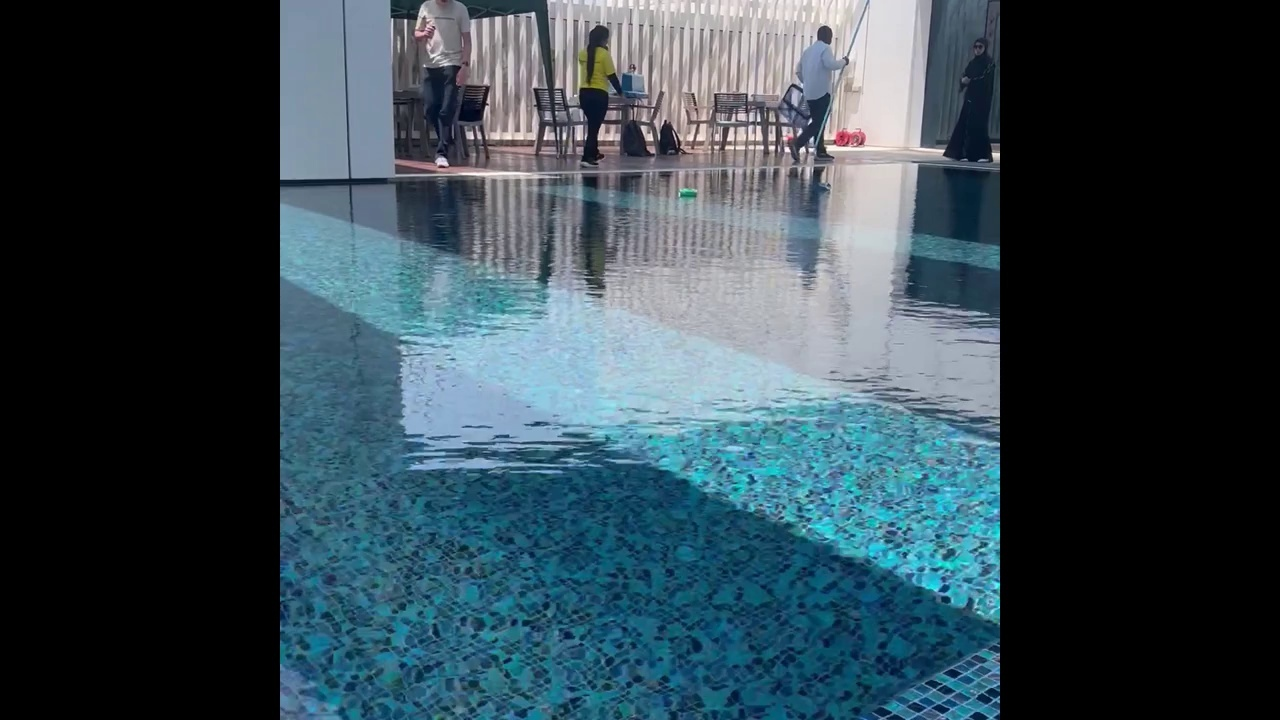debris: (675, 187, 698, 199), (815, 181, 831, 192)
